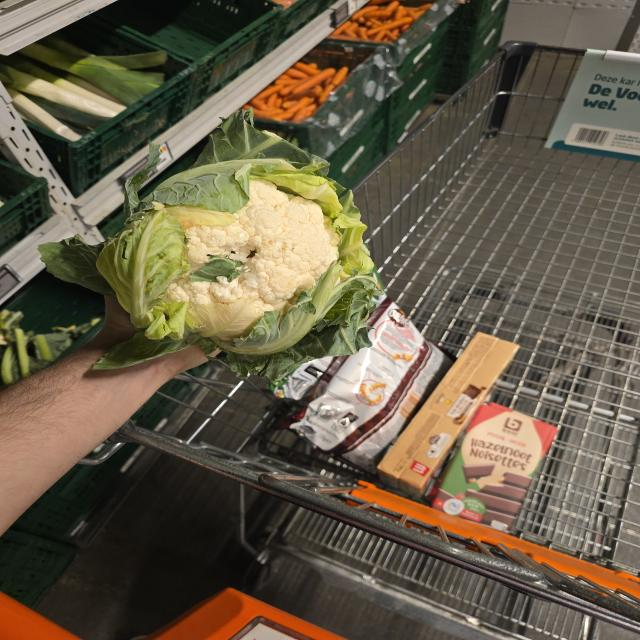Cauliflower: (97, 157, 377, 359)
